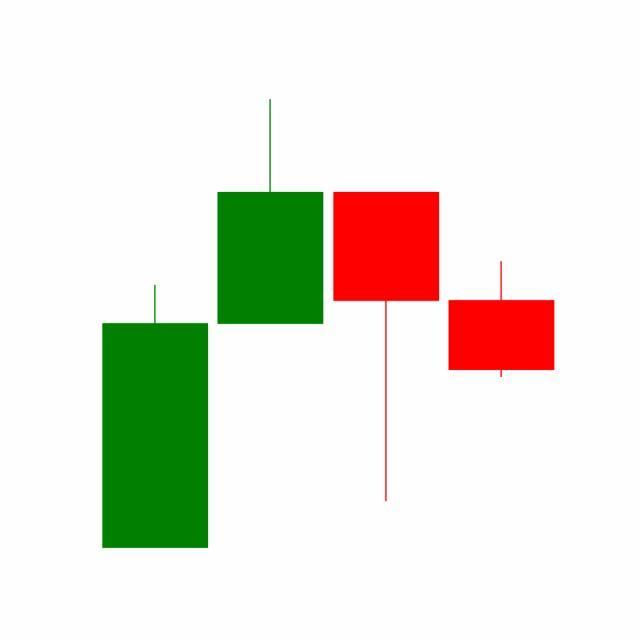Hammer: (329, 189, 445, 505)
